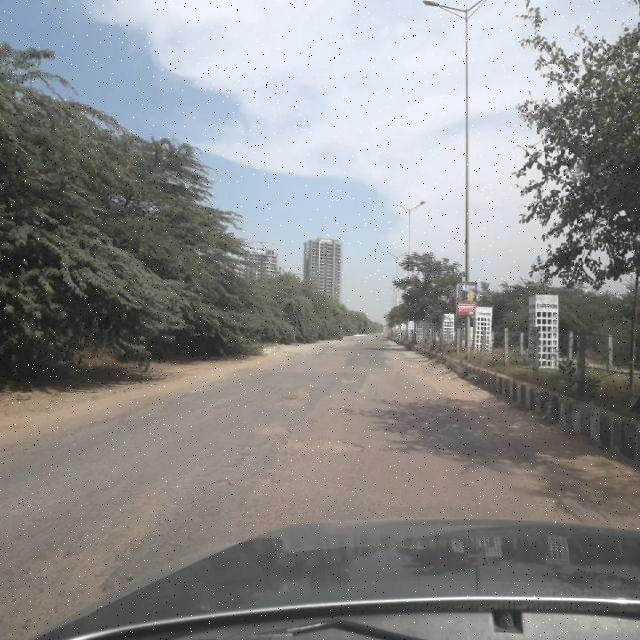D00: (222, 434, 260, 472)
D20: (141, 486, 378, 542)
D40: (0, 496, 154, 627), (272, 435, 370, 465), (263, 378, 317, 412), (194, 474, 278, 493), (238, 418, 294, 442)
